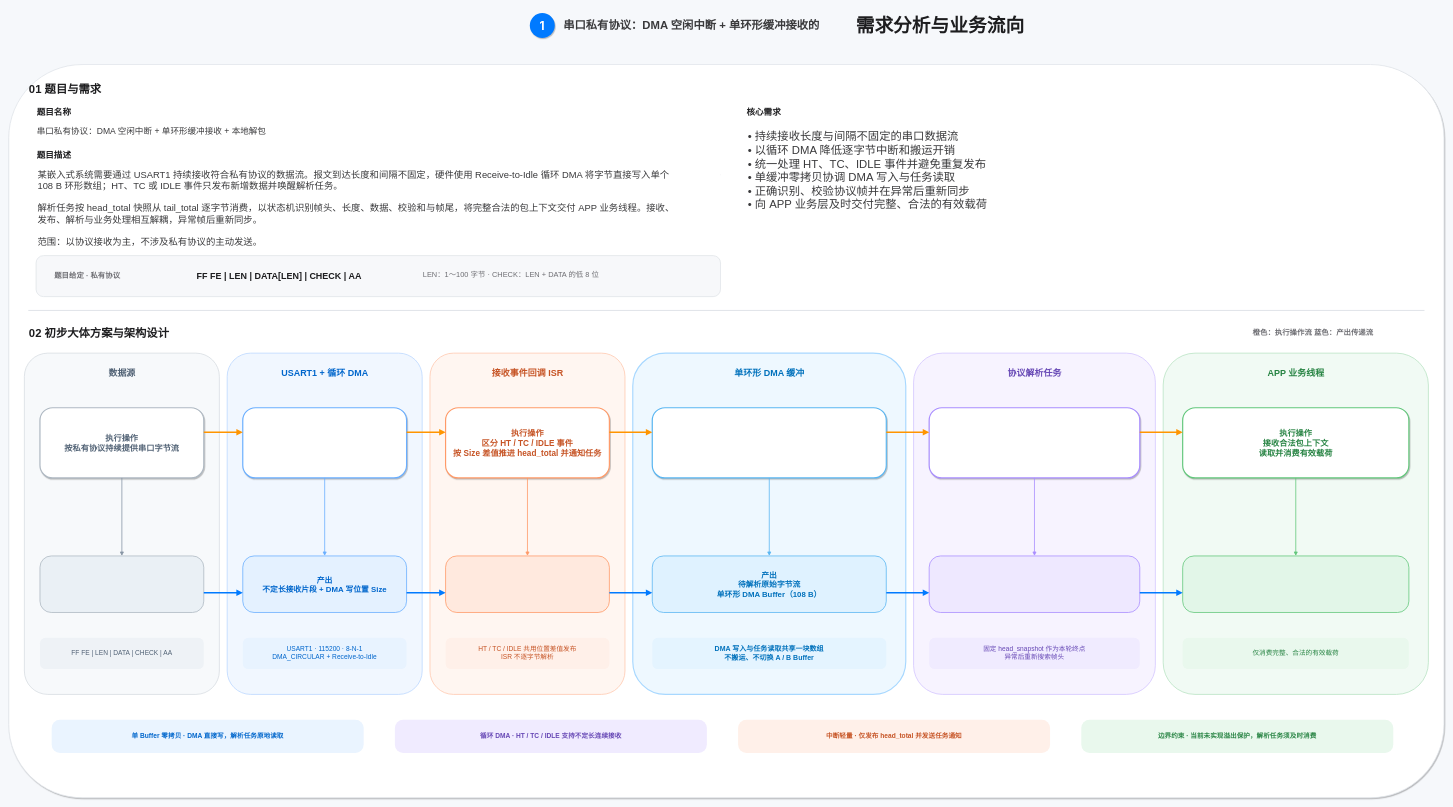
Image size: 1453x807. Some labels were removed from this diagram. Here are the shapes that lost their labels. From the top down, the centre of each, then its label:
At [324,443]: "执行操作 启动 Receive-to-Idle 循环 DMA 持续写入 108 B 接收数组".
At [769,443]: "执行操作 DMA 循环写入 data[108] head_total 标记发布终点 tail_total 标记消费位置".
At [1035,443]: "执行操作 等待任务通知并锁定 head 快照 逐字节读取并驱动状态机 校验长度、累加和与帧尾".
At [121,584]: "产出 私有协议字节流".
At [527,584]: "产出 新增字节数 + head_total 解析任务直接通知".
At [1034,584]: "产出 已校验有效载荷 packet_ok_queue 包上下文".
At [1295,584]: "产出 业务处理结果".
